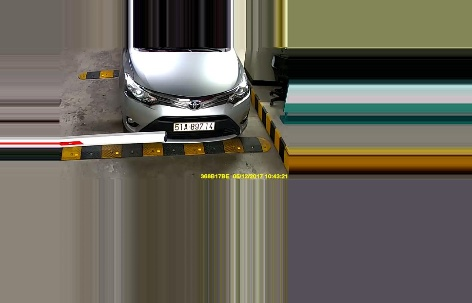plate: (172, 116, 215, 131)
